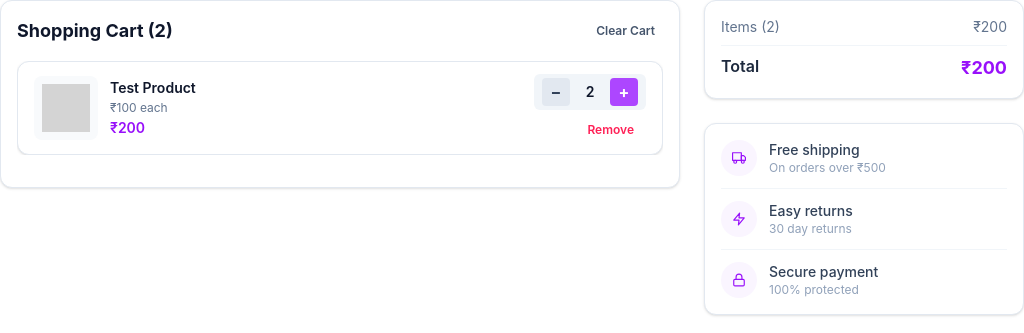
Test: CartItem › Remove the cart item when remove is clicked
The width and height of the screenshot is (1024, 333).
Step 1. Click the button "Remove" → coordinates (611, 130), box [575, 118, 646, 142]
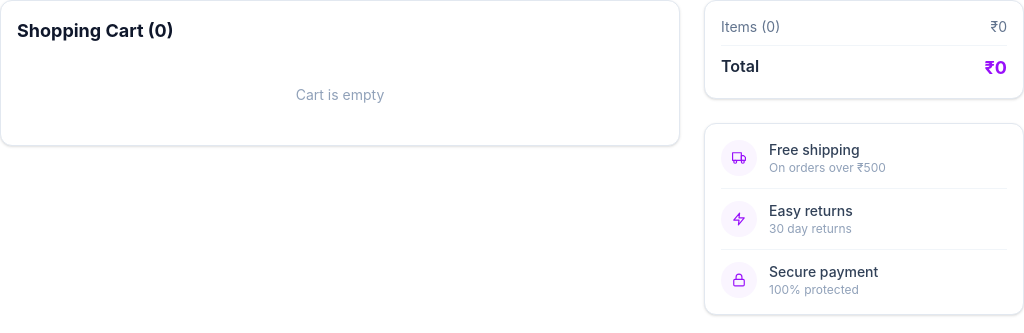
Expected: the text "Cart is empty" is shown, [296, 86, 384, 103]
